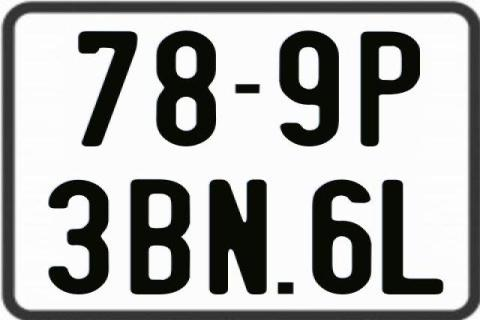0: (277, 29, 339, 149), (48, 180, 112, 296), (153, 29, 213, 147), (78, 30, 137, 146), (311, 177, 370, 293)
B: (129, 178, 188, 298)
L: (380, 178, 446, 296)
N: (208, 178, 269, 298)
P: (361, 30, 420, 150)
